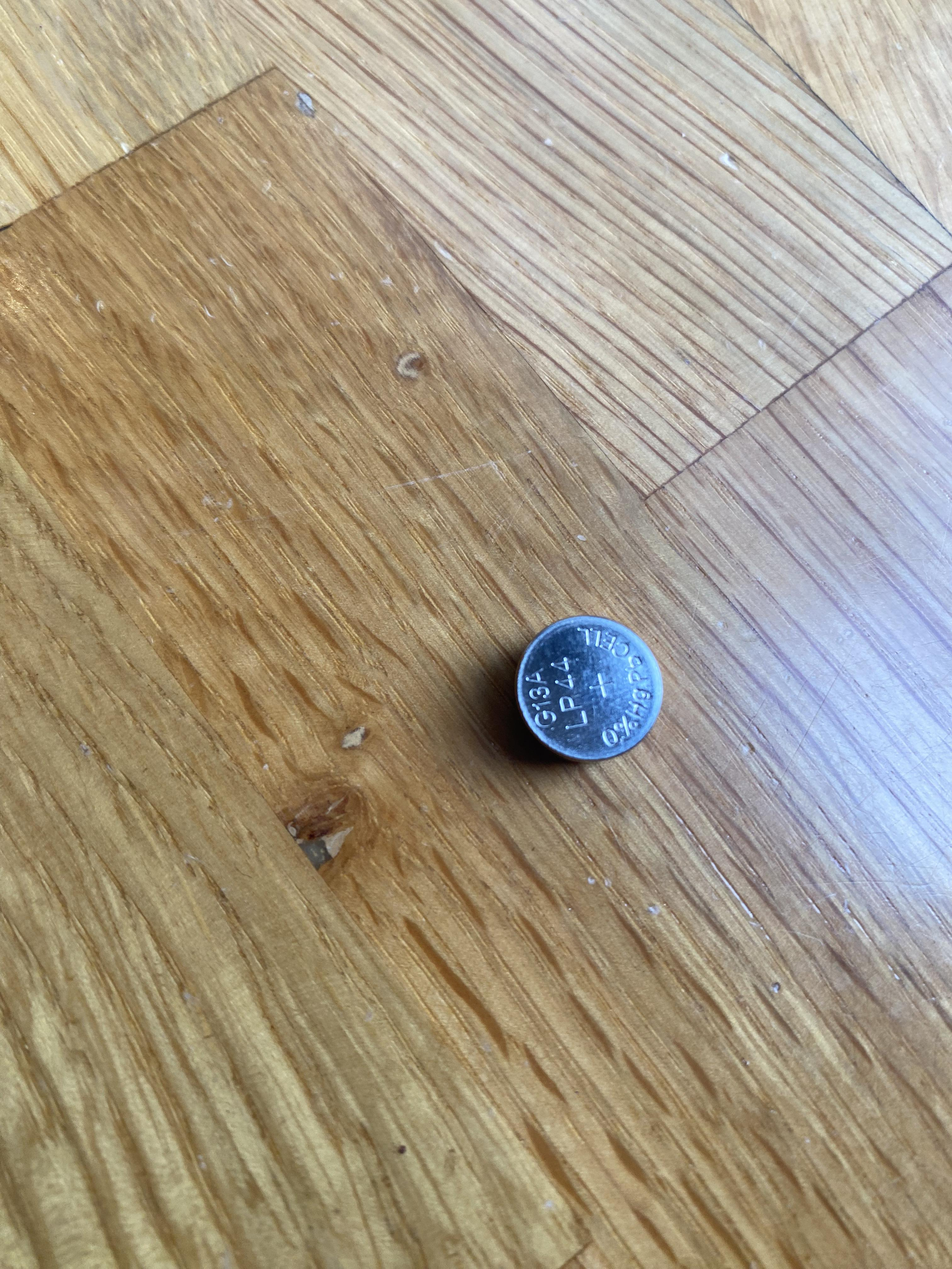COIN: (515, 614, 664, 761)
